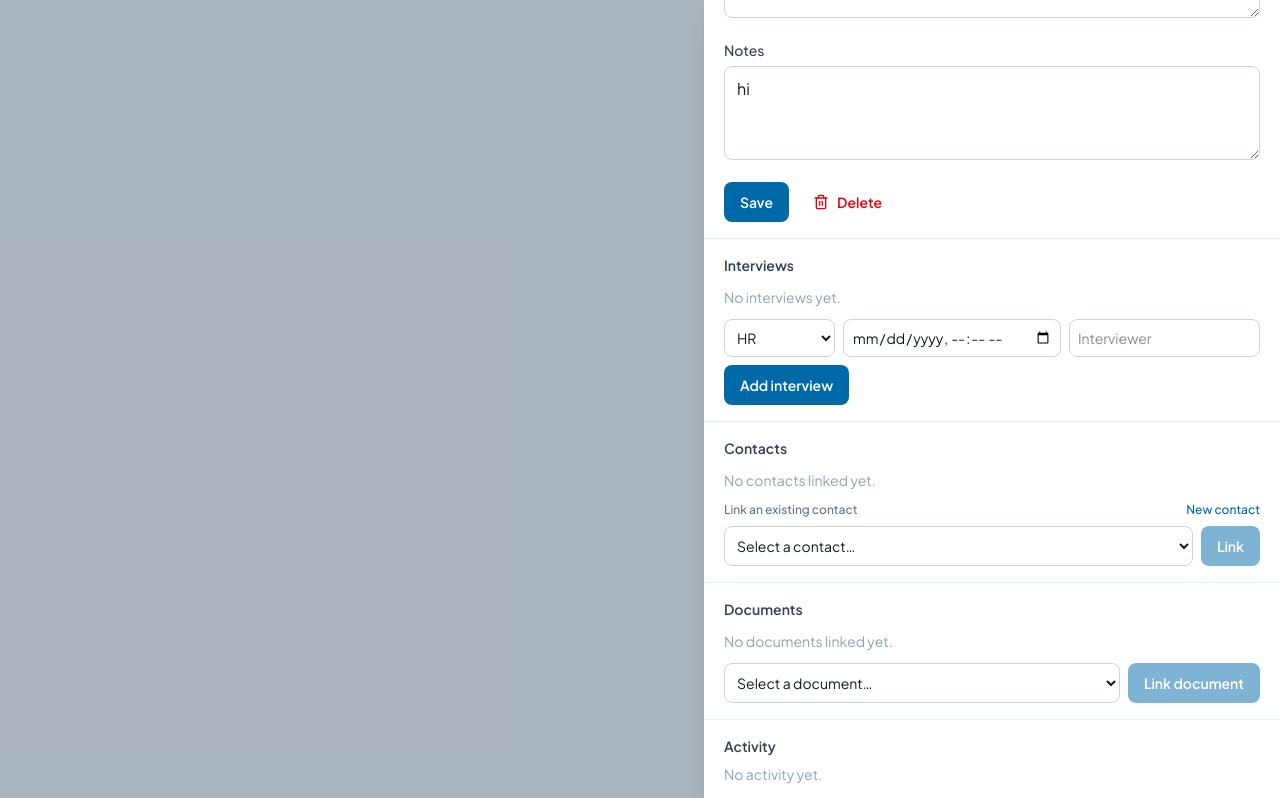
Test: quick-create surfaces an error when linking fails
(page scrolled)
Click the button "New contact". click: [1223, 510]
box: [1186,502,1260,518]
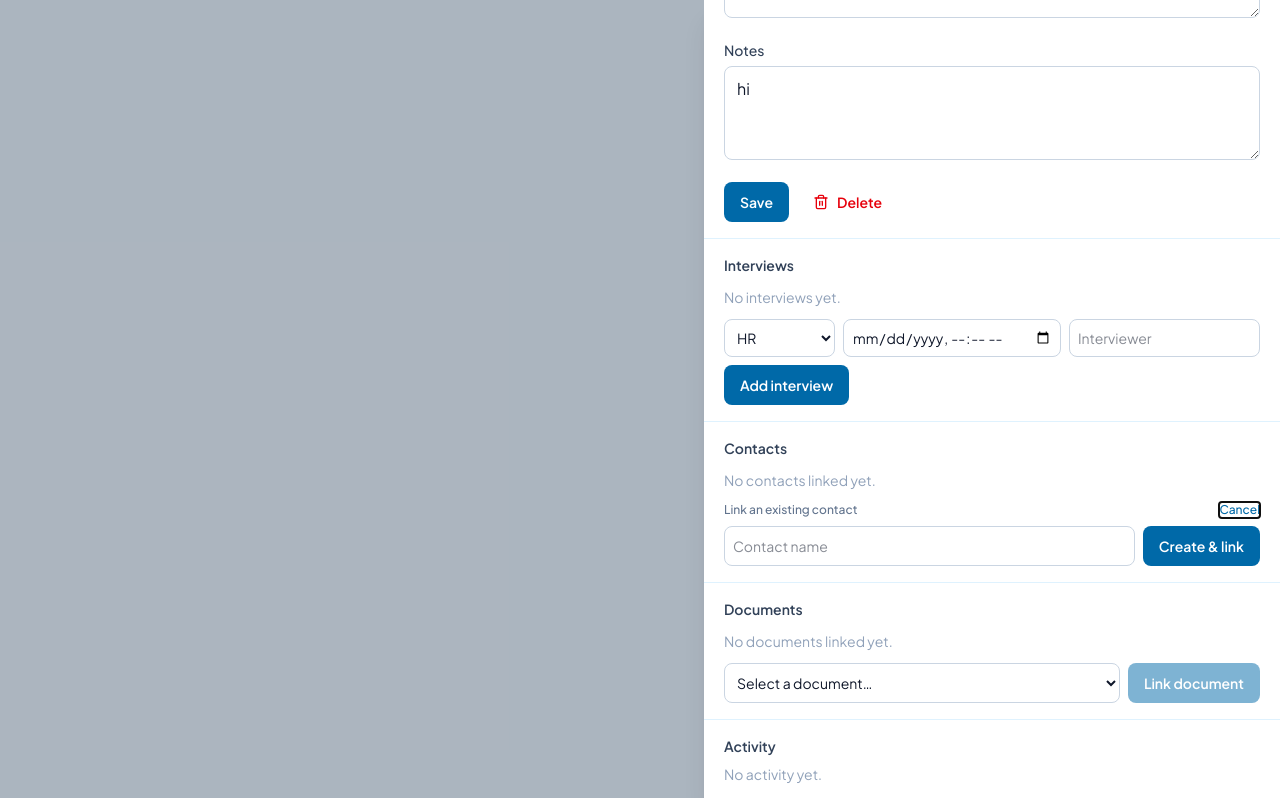
Type "Quick Bob" into the field named "new contact name". click: [929, 546]
box: [724,526,1135,566]
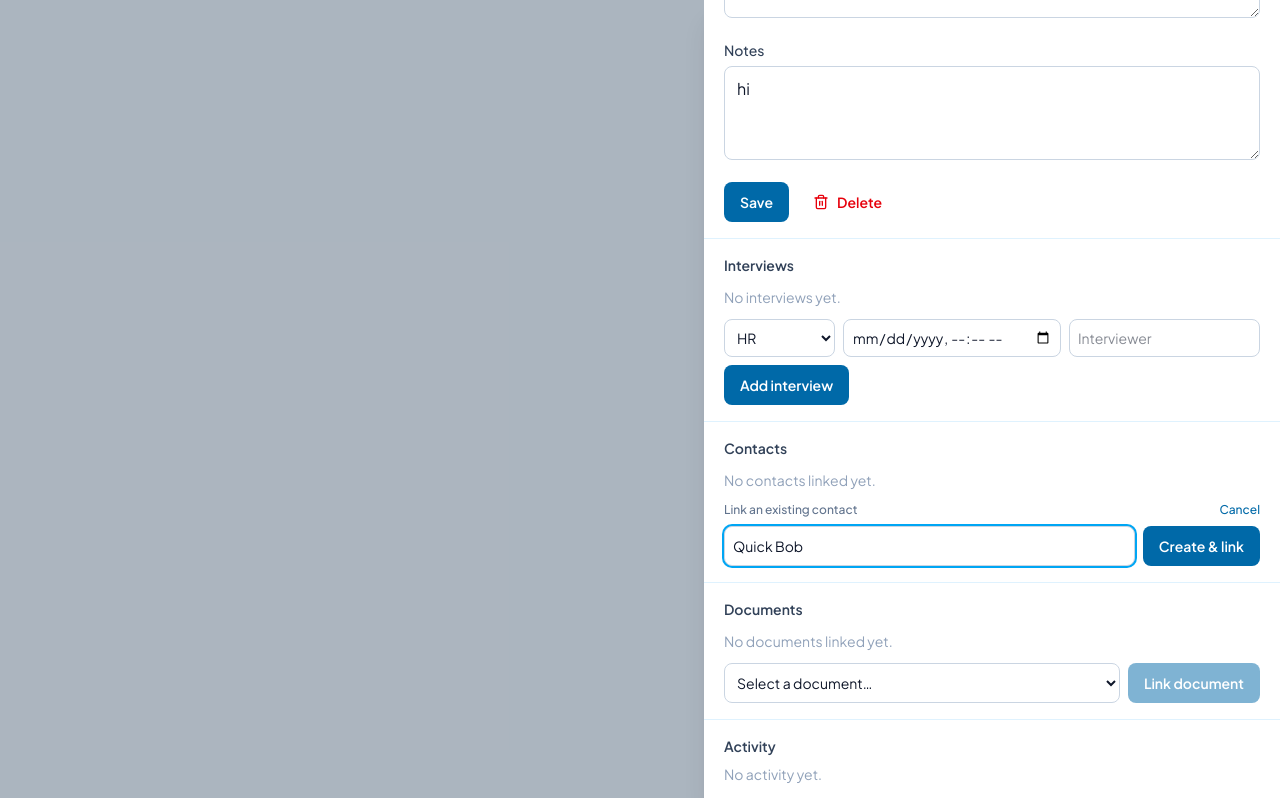
Click the button "Create & link". click: [1201, 546]
box: [1143,526,1260,566]
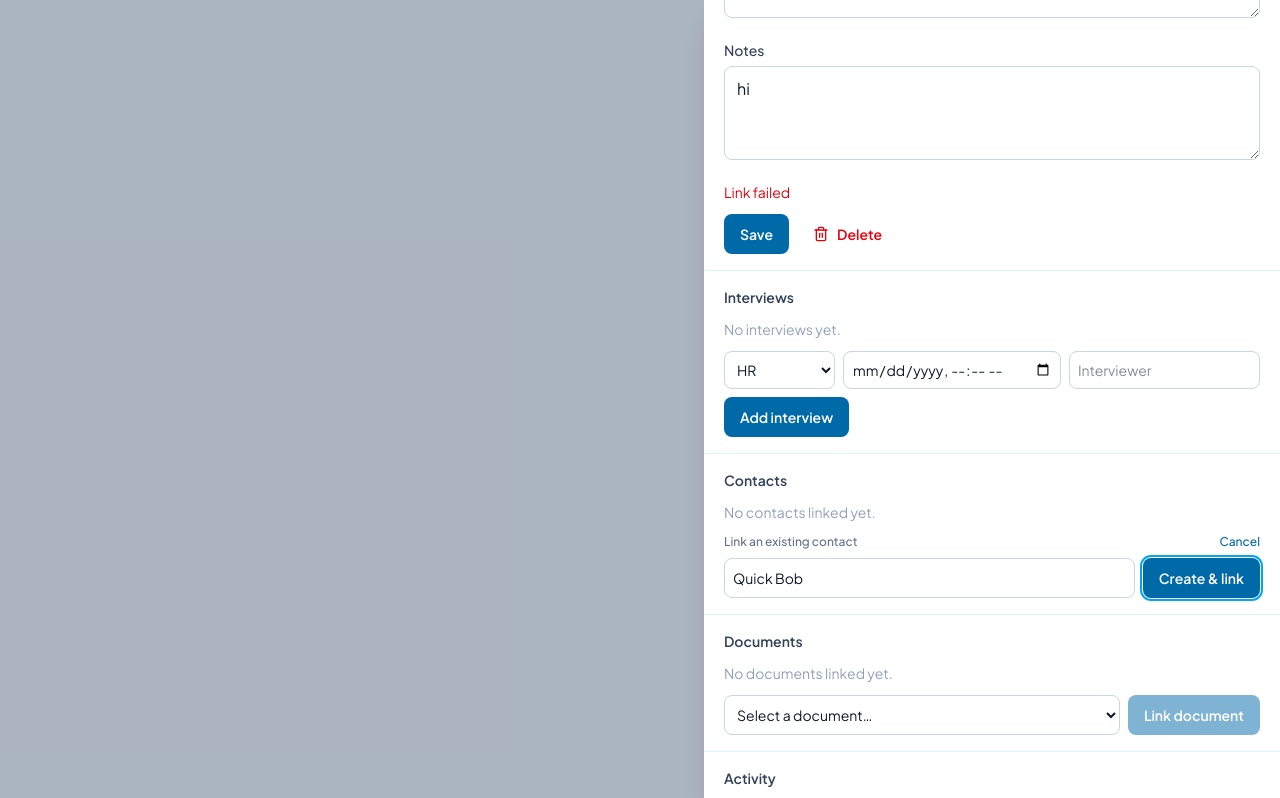
Check: the message reads "Link failed", box [724,183,790,201]
